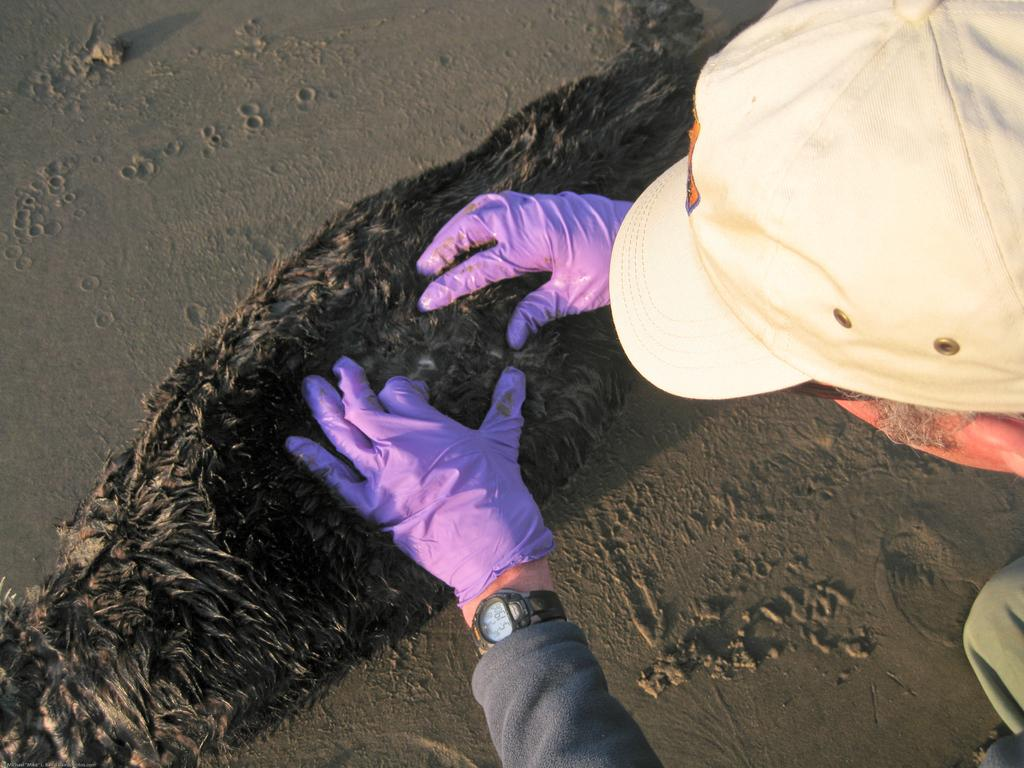Hat: (606, 0, 1022, 410)
